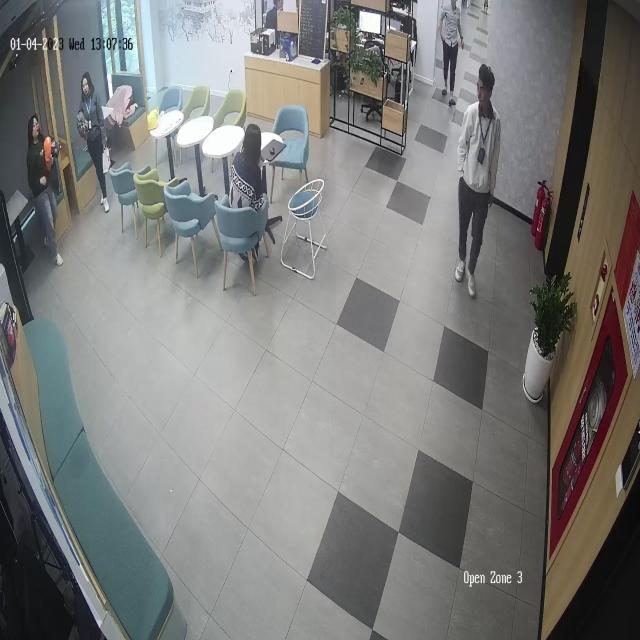person: (453, 62, 501, 298), (229, 122, 281, 260), (27, 115, 65, 268), (76, 71, 110, 214), (439, 0, 464, 107)
